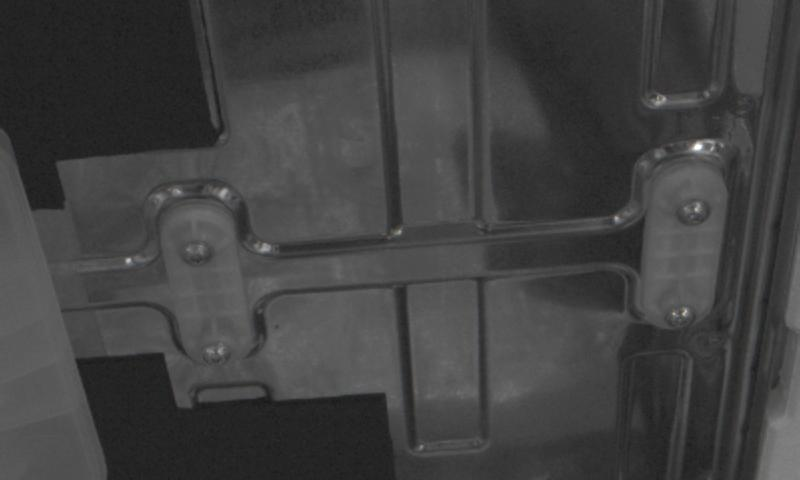vida-ok: (168, 232, 217, 277), (193, 332, 242, 371), (657, 296, 703, 337), (672, 192, 712, 236)
